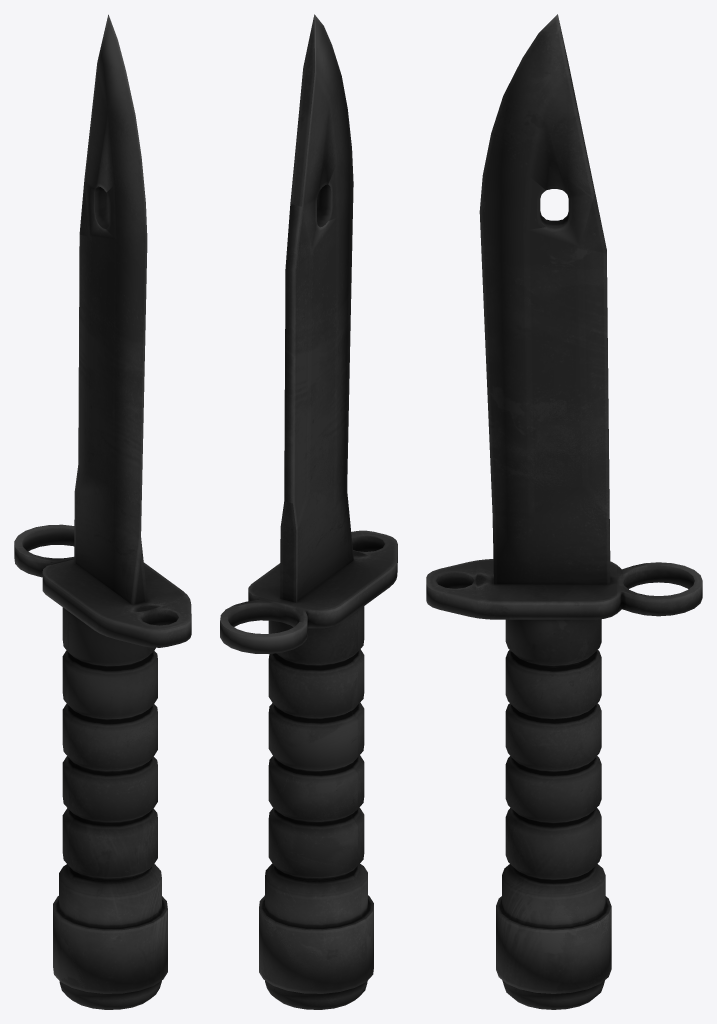
File: Knife (fbx).fbx
The picture shows the model from 3 angles, left to right: view 1: azimuth 30°, elevation 25°; view 2: azimuth 150°, elevation 25°; view 3: azimuth 270°, elevation 25°; orthographic projection.
Parts seen in each view (by area): view 1: knife; view 2: knife; view 3: knife.
Part boxes in pixels (<box>): knife: <box>14,14,191,1009</box>; knife: <box>220,14,397,1009</box>; knife: <box>426,14,702,1009</box>.
Size of the model in its own units: 0.0342 by 0.3192 by 0.0817.
Materials: 1 (1 with a texture image).
